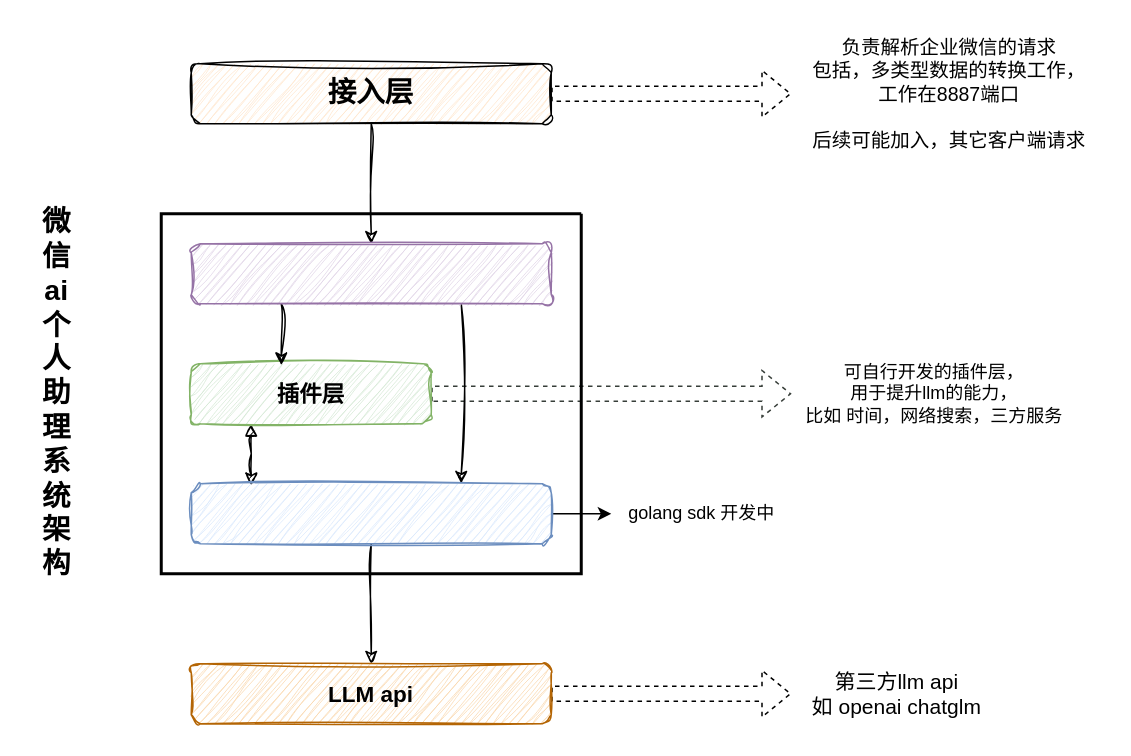
Some shapes in this 1131 by 756 pixel diagram are drawn without their labels. The box of each missing label's shape, as (x1, y1, x2, y2) in pixels:
Langchain 抽象层: (190, 482, 551, 544)
会话控制与系统设置层: (190, 242, 551, 304)
